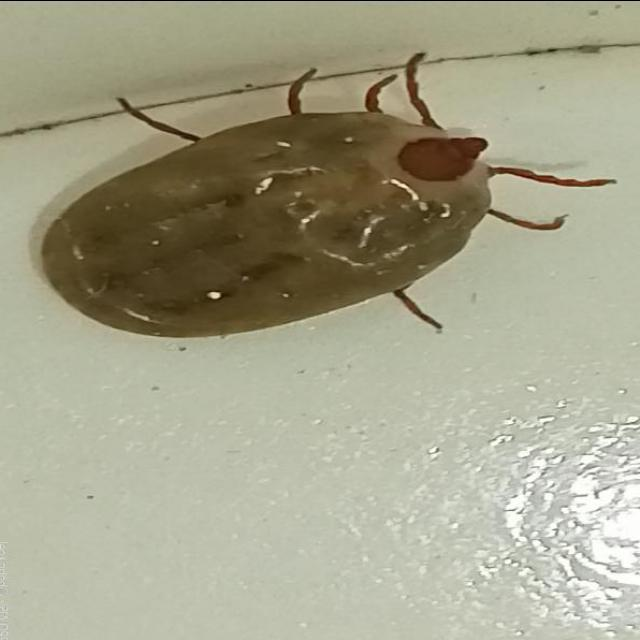Rhipicephalus Sanguineus-F-Fed: (38, 48, 616, 337)
